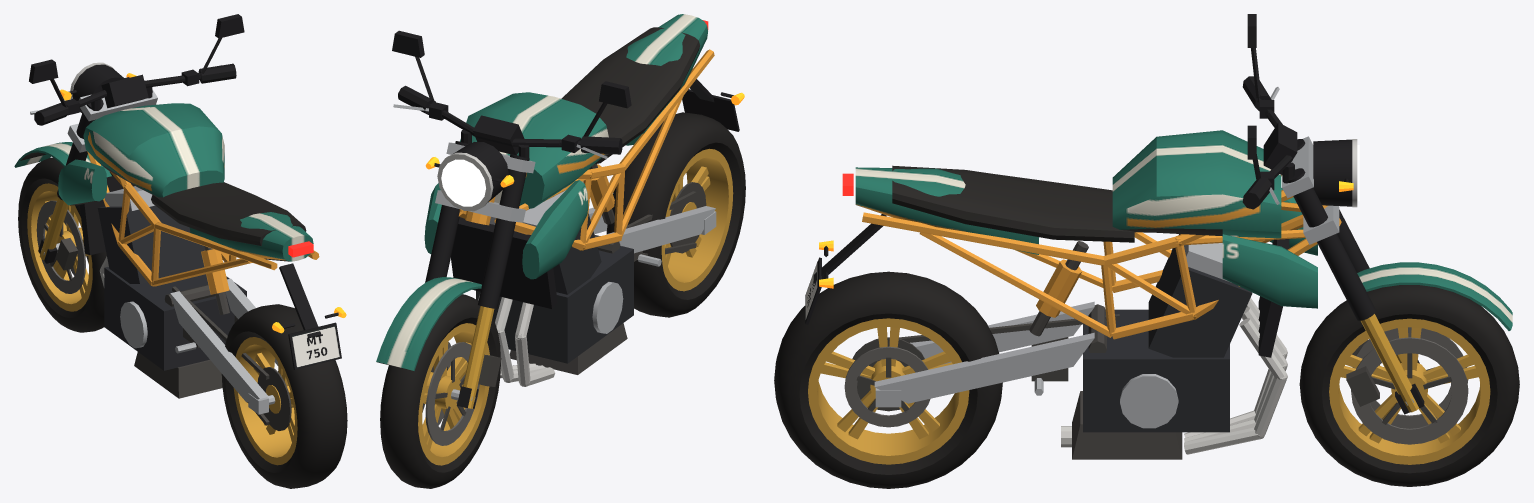
File: BIKE-002_Export.fbx
3 renders of one model, left to right at view 1: azimuth 30°, elevation 25°; view 2: azimuth 150°, elevation 25°; view 3: azimuth 270°, elevation 25°, orthographic. The views are drawn at different scales.
Visible parts, largest first — view 1: BIKE-002_Frame, BIKE-002_Body, BIKE-002_Wheel_R_Tire, BIKE-002_Fork, BIKE-002_Wheel_R_Rim, BIKE-002_Wheel_F_Rim, BIKE-002_Wheel_F_Tire, BIKE-002_Lights; view 2: BIKE-002_Frame, BIKE-002_Fork, BIKE-002_Body, BIKE-002_Wheel_R_Tire, BIKE-002_Wheel_F_Tire, BIKE-002_Wheel_F_Rim, BIKE-002_Wheel_R_Rim; view 3: BIKE-002_Frame, BIKE-002_Body, BIKE-002_Wheel_R_Tire, BIKE-002_Fork, BIKE-002_Wheel_F_Tire, BIKE-002_Wheel_F_Rim, BIKE-002_Wheel_R_Rim.
Boxes of the visible parts, x1,y1,x2,y2 form: BIKE-002_Frame: (79, 151, 341, 425); BIKE-002_Body: (58, 103, 313, 261); BIKE-002_Wheel_R_Tire: (221, 304, 347, 488); BIKE-002_Fork: (14, 14, 244, 270); BIKE-002_Wheel_R_Rim: (233, 337, 297, 465); BIKE-002_Wheel_F_Rim: (27, 183, 92, 311); BIKE-002_Wheel_F_Tire: (18, 157, 106, 332); BIKE-002_Lights: (272, 241, 346, 333); BIKE-002_Frame: (451, 27, 739, 386); BIKE-002_Fork: (376, 30, 631, 408); BIKE-002_Body: (424, 14, 707, 279); BIKE-002_Wheel_R_Tire: (606, 112, 745, 317); BIKE-002_Wheel_F_Tire: (380, 294, 500, 488); BIKE-002_Wheel_F_Rim: (418, 323, 489, 465); BIKE-002_Wheel_R_Rim: (661, 148, 733, 291); BIKE-002_Frame: (805, 165, 1341, 459); BIKE-002_Body: (855, 130, 1317, 308); BIKE-002_Wheel_R_Tire: (774, 271, 1002, 488); BIKE-002_Fork: (1242, 14, 1512, 414); BIKE-002_Wheel_F_Tire: (1299, 285, 1519, 486); BIKE-002_Wheel_F_Rim: (1329, 318, 1490, 464); BIKE-002_Wheel_R_Rim: (808, 318, 969, 464).
Bounding box in the file's own units: 0.82 × 1.23 × 2.03.
17 materials, 2 textured.
